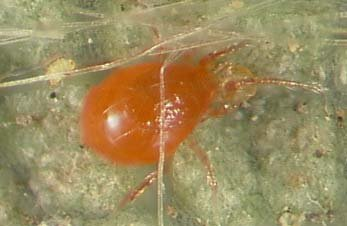Mites: (60, 36, 271, 177)
